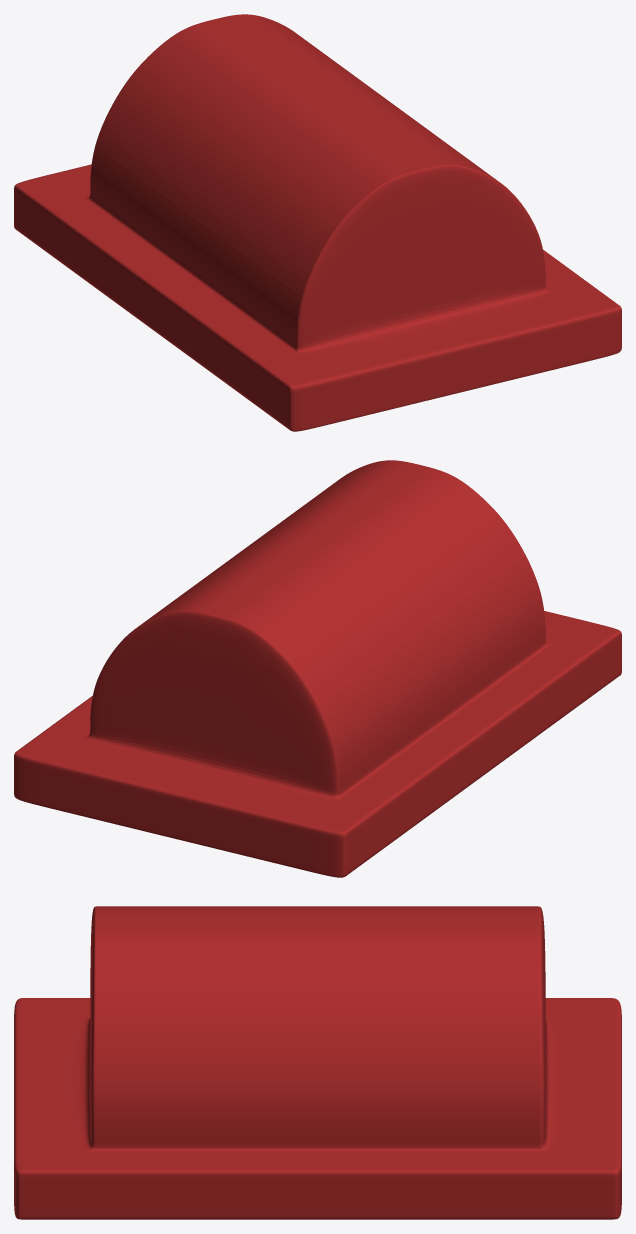
Rendered from StaticObstacle.fbx.
The picture shows the model from 3 angles, top to bottom: view 1: azimuth 30°, elevation 25°; view 2: azimuth 150°, elevation 25°; view 3: azimuth 270°, elevation 25°; orthographic projection. The views are drawn at different scales.
Parts seen in each view (by area): view 1: Cube; view 2: Cube; view 3: Cube.
Boxes of the visible parts, x1,y1,x2,y2 form: Cube: (14,14,621,431); Cube: (14,460,621,877); Cube: (14,906,621,1219).
Bounding box in the file's own units: 462 × 261 × 678.
